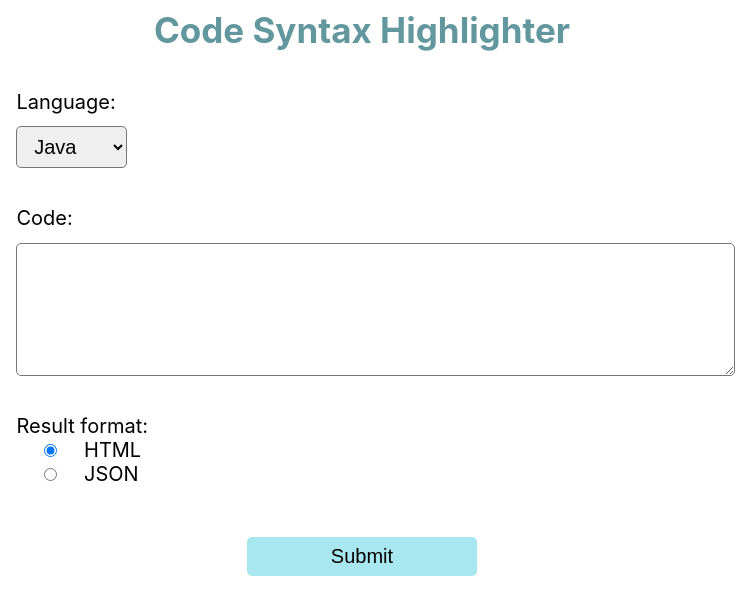
Test case: should simulate changing result format
Click the radio button labelled "JSON" at [50, 475], box [44,468,57,481]
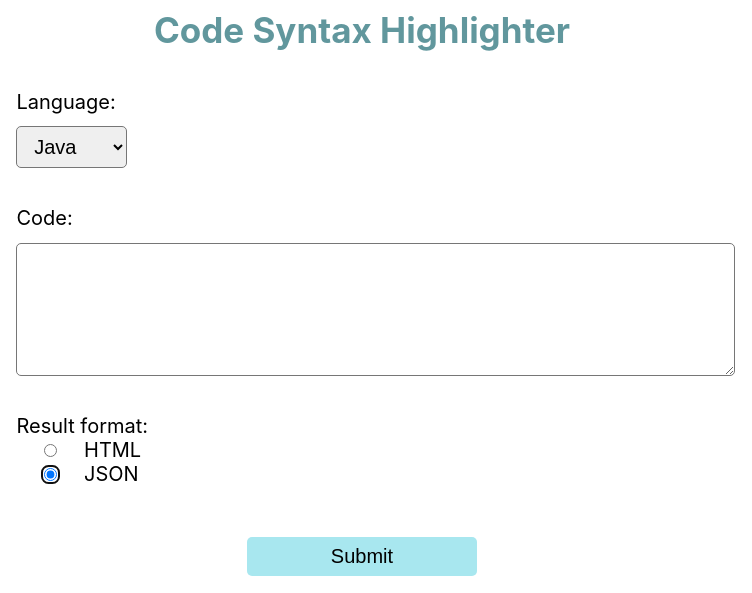
Expected: the radio button labelled "JSON" is checked, [44,468,57,481]
Expected: the radio button labelled "HTML" is not checked, [44,444,57,457]
